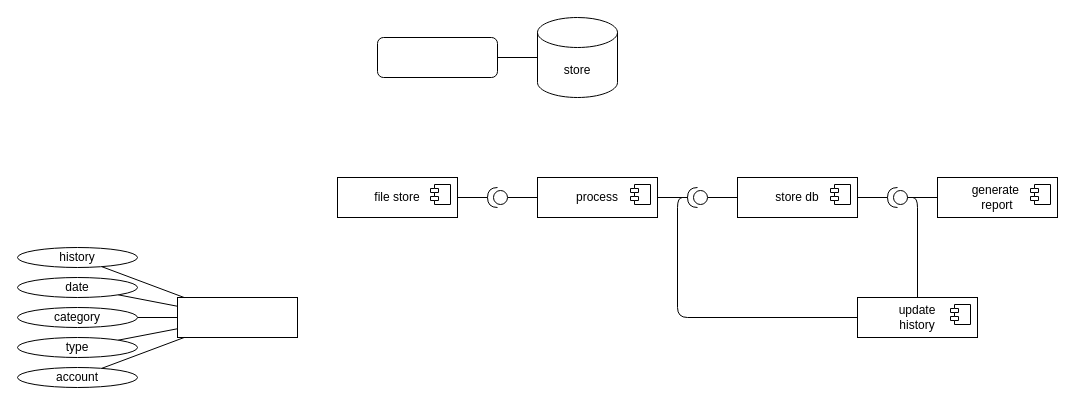
Some shapes in this 1075 by 405 pixel diagram are drawn without their labels. The shapes that lost their labels are listed below. From the top down, each one's centre as x and y in pixels, then its label:
At [437,57]: "service".
At [237,317]: "TRANSACTION".
